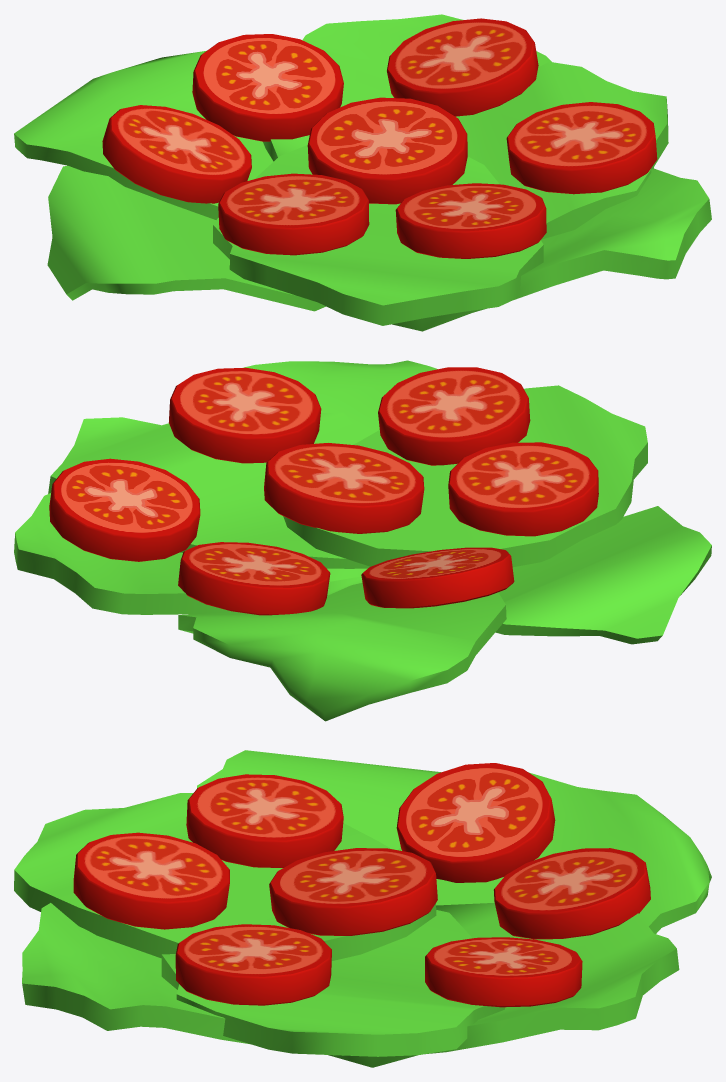
The model's file is SM_Lettuce-Tomato_Salad.fbx.
3 views of the same model, one above another, from view 1: azimuth 30°, elevation 25°; view 2: azimuth 150°, elevation 25°; view 3: azimuth 270°, elevation 25° (orthographic). The views are drawn at different scales.
Parts seen in each view (by area): view 1: Lettuce_Tomato_Salad; view 2: Lettuce_Tomato_Salad; view 3: Lettuce_Tomato_Salad.
Boxes of the visible parts, x1=… form: Lettuce_Tomato_Salad: x1=14, y1=14, x2=711, y2=331; Lettuce_Tomato_Salad: x1=14, y1=360, x2=711, y2=721; Lettuce_Tomato_Salad: x1=14, y1=750, x2=711, y2=1067.
Bounding box in the file's own units: 156 × 33.46 × 153.
